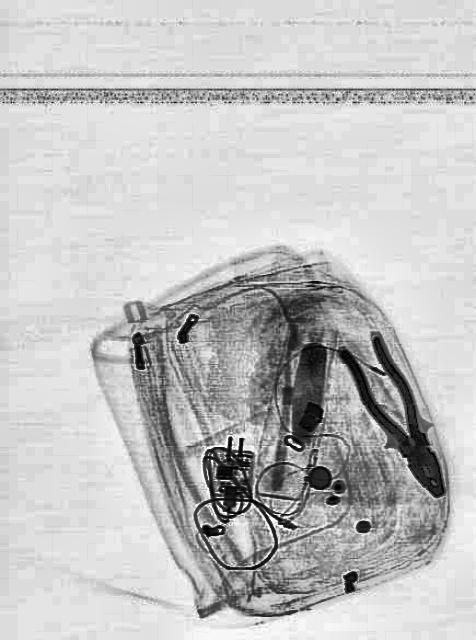Pliers: (338, 322, 460, 512)
